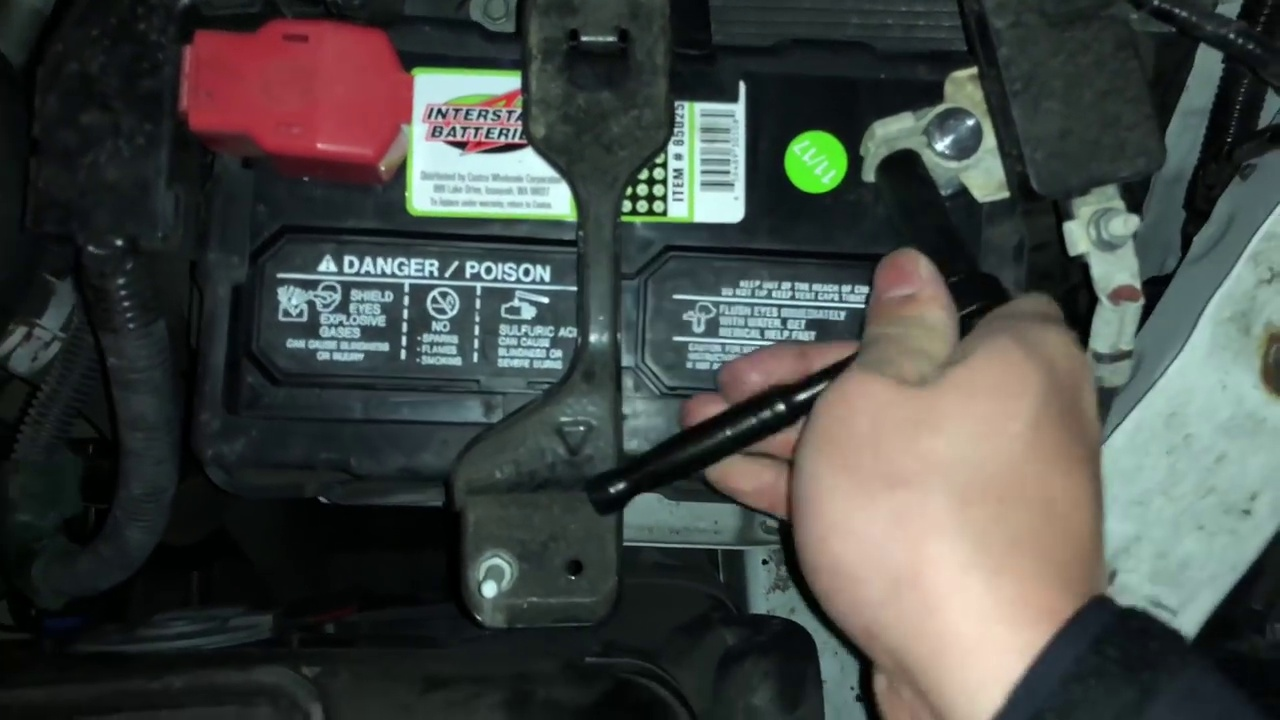battery: (184, 21, 1024, 472)
neg_connected: (842, 66, 1033, 220)
pos_connected: (158, 12, 452, 196)
